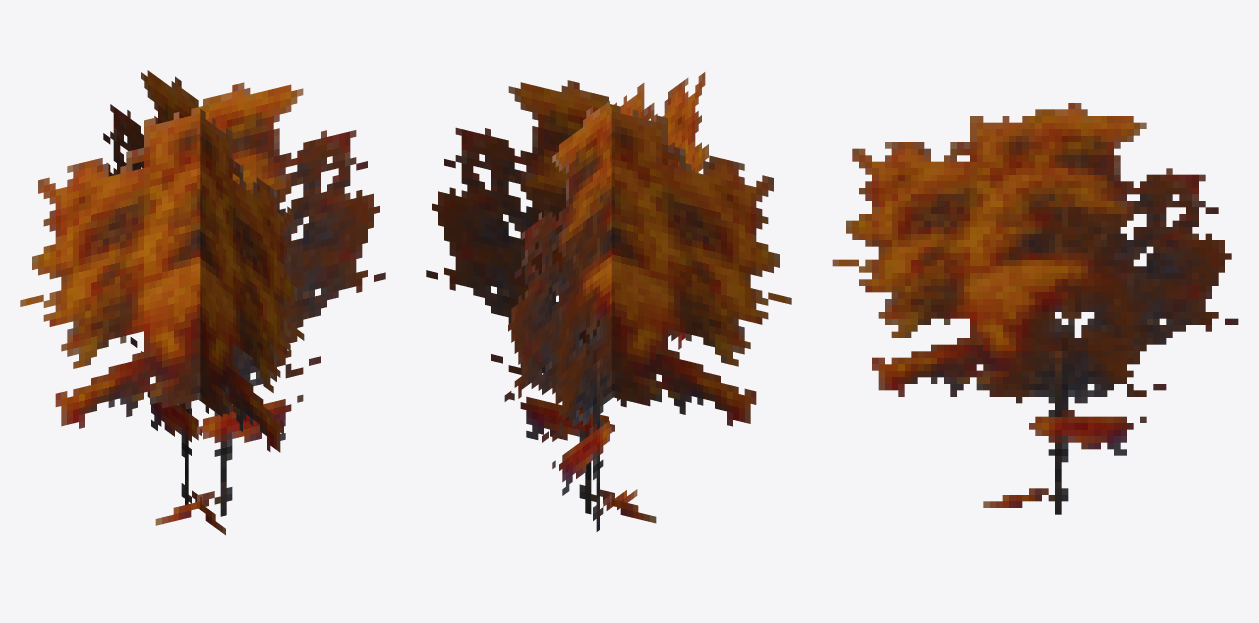
Rendered from tree7.glb.
The picture shows the model from 3 angles, left to right: view 1: azimuth 30°, elevation 25°; view 2: azimuth 150°, elevation 25°; view 3: azimuth 270°, elevation 25°; orthographic projection. The views are drawn at different scales.
Parts seen in each view (by area): view 1: rect_000; view 2: rect_000; view 3: rect_000.
Boxes of the visible parts, x1,y1,x2,y2 form: rect_000: (20,70,385,535); rect_000: (426,72,791,531); rect_000: (832,103,1238,514).
Bounding box in the file's own units: 14 × 15.5 × 14.
Materials: 1 (1 with a texture image).
